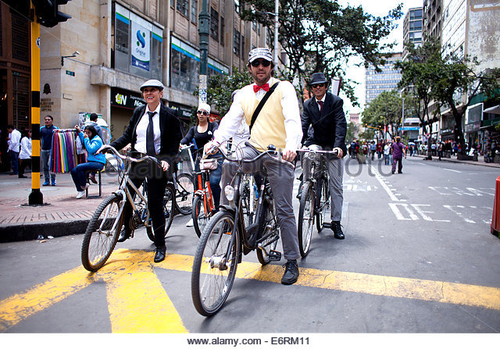bikerider: (196, 23, 311, 322), (77, 74, 180, 272), (288, 64, 362, 266), (178, 100, 226, 238)
